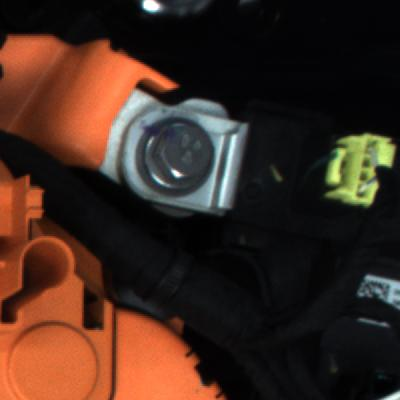nut_b: (129, 113, 220, 199)
